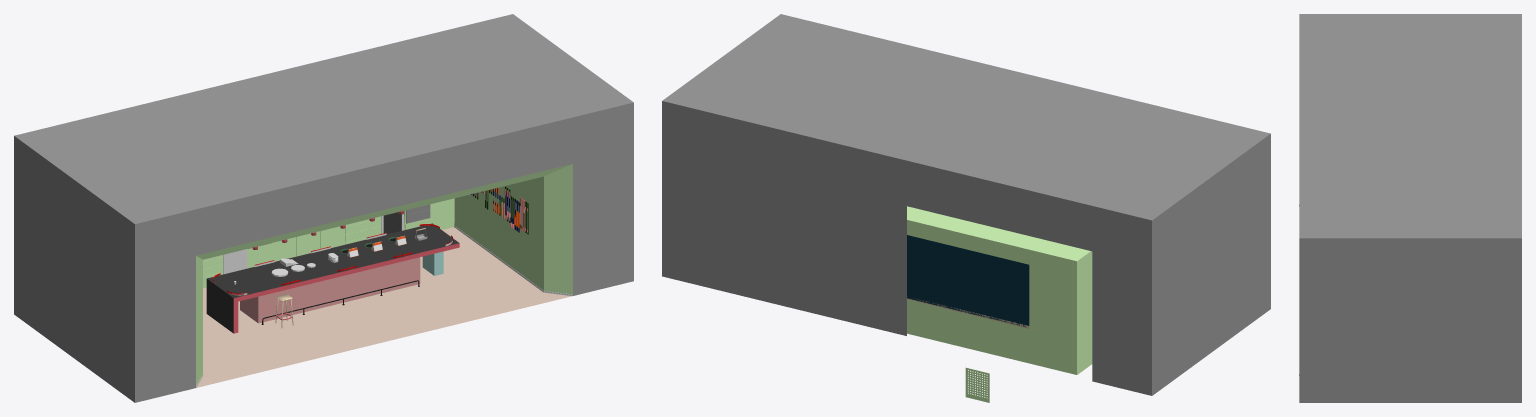
The model's file is ul-kitchen24.gltf.
The picture shows the model from 3 angles, left to right: view 1: azimuth 30°, elevation 25°; view 2: azimuth 150°, elevation 25°; view 3: azimuth 270°, elevation 25°; orthographic projection. The views are drawn at different scales.
Visible parts, largest first — view 1: concreteWalls, floor, mainGreenWall, mainTablePlate, mainTableBase, closetDoors, mainTableSidePannels, mainTableSidePlane; view 2: concreteWalls, mainGreenWall, MainNishBackWall, dishwasherDoor.001; view 3: concreteWalls.
Boxes of the visible parts, x1,y1,x2,y2 form: concreteWalls: [14, 14, 633, 402]; floor: [196, 227, 571, 387]; mainGreenWall: [196, 164, 572, 385]; mainTablePlate: [207, 223, 459, 297]; mainTableBase: [240, 257, 420, 323]; closetDoors: [203, 198, 454, 284]; mainTableSidePannels: [233, 243, 459, 333]; mainTableSidePlane: [206, 279, 233, 333]; concreteWalls: [662, 14, 1270, 395]; mainGreenWall: [907, 206, 1092, 374]; MainNishBackWall: [907, 235, 1029, 327]; dishwasherDoor.001: [965, 367, 989, 402]; concreteWalls: [1299, 14, 1521, 402].
Size of the model in its own units: 208 by 99.24 by 87.55.
